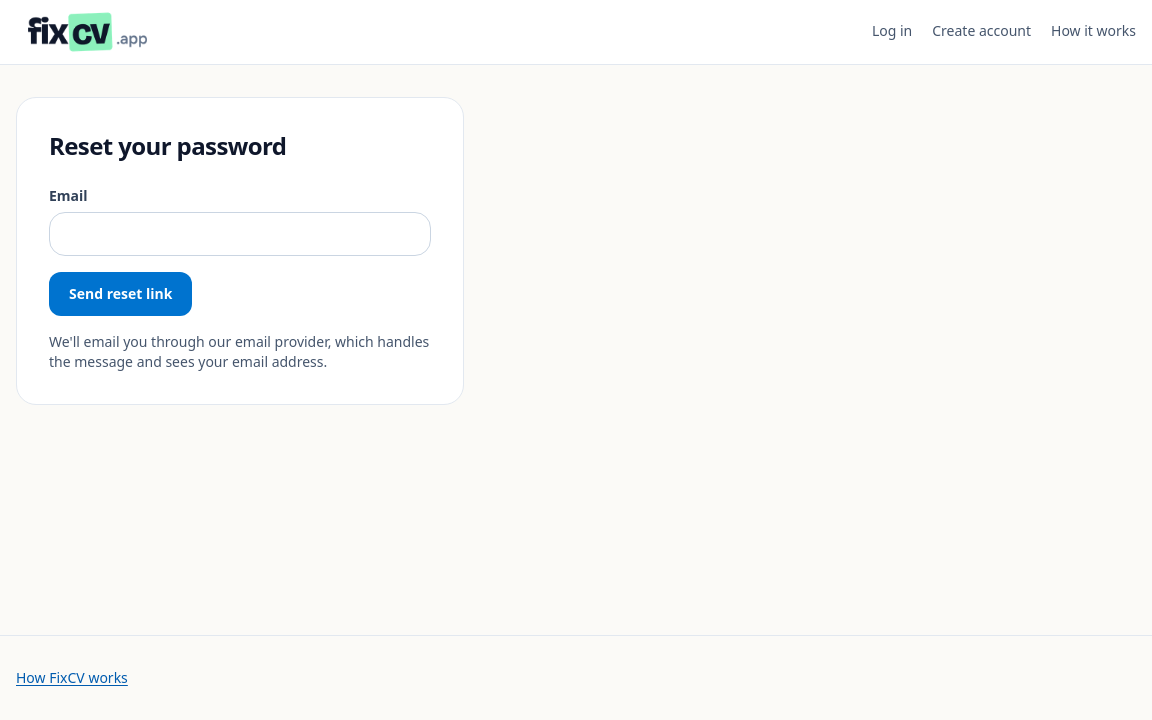
it: /reset-password › a 202 is a role="status" that takes focus
The width and height of the screenshot is (1152, 720).
Type "alex.marker@example.com" into the field labelled "Email" at (240, 234), box x1=49 y1=212 x2=431 y2=256
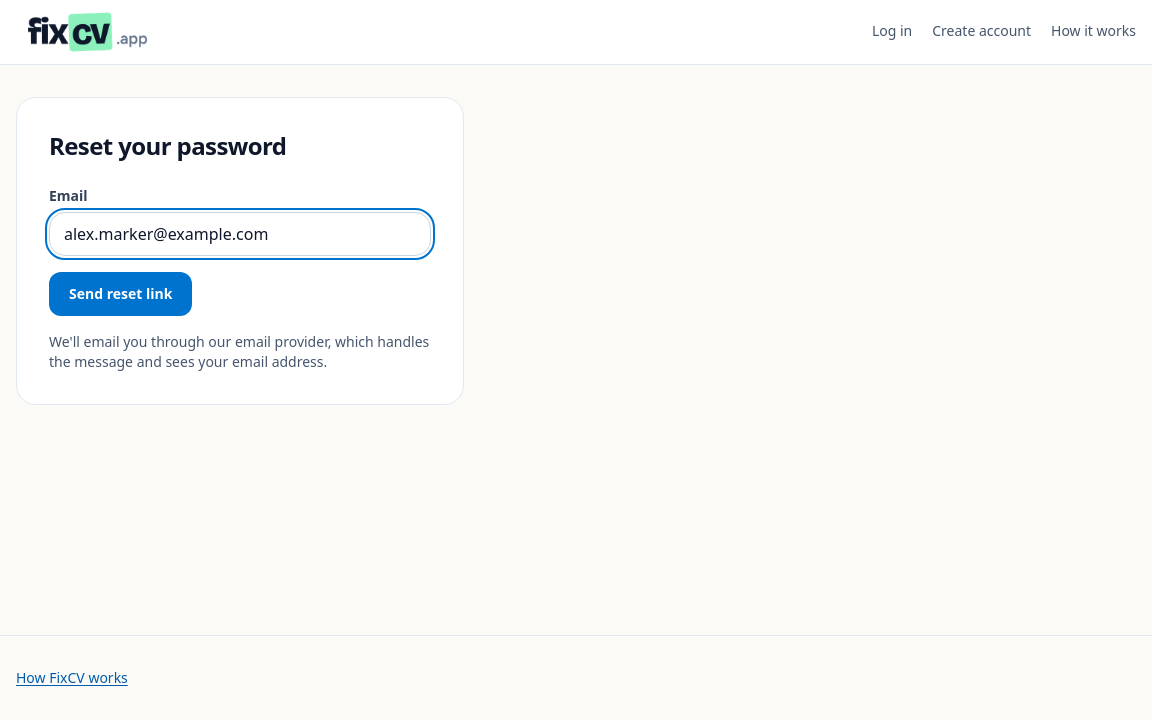
Click the button "Send reset link" at (121, 294), box x1=49 y1=272 x2=192 y2=316
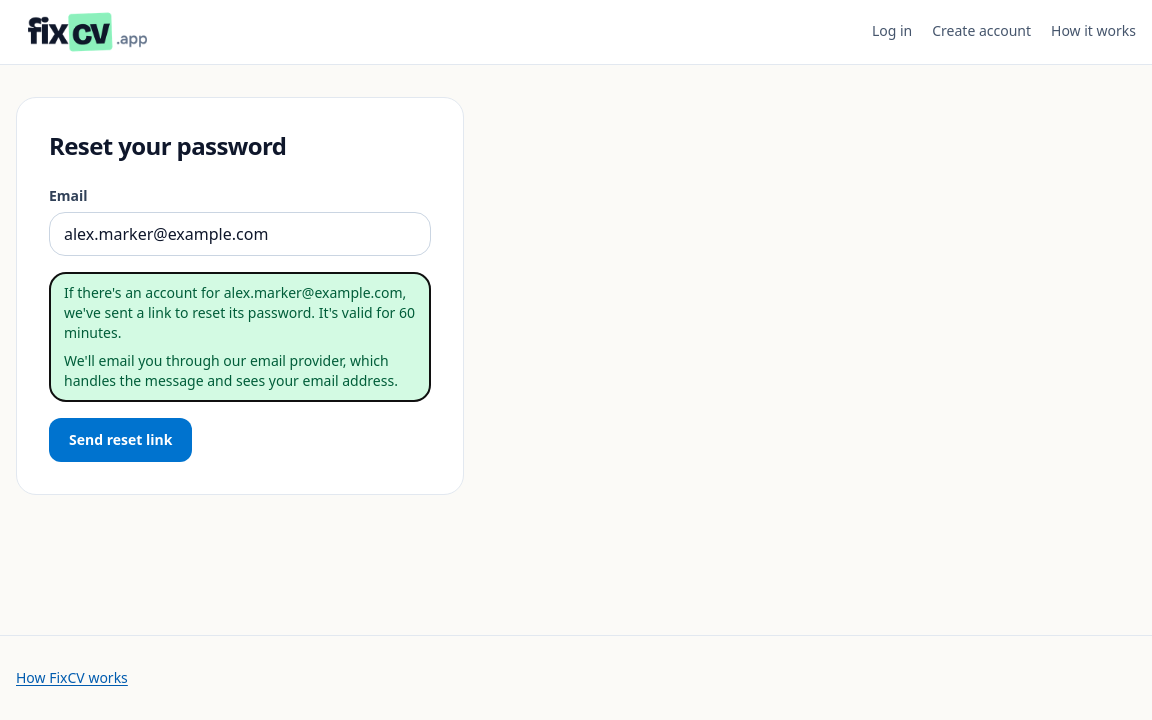
Expected: the heading named "FixCV" is shown, x1=16 y1=12 x2=159 y2=52
Result: the message shows "alex.marker@example.com" at x1=64 y1=283 x2=415 y2=342
